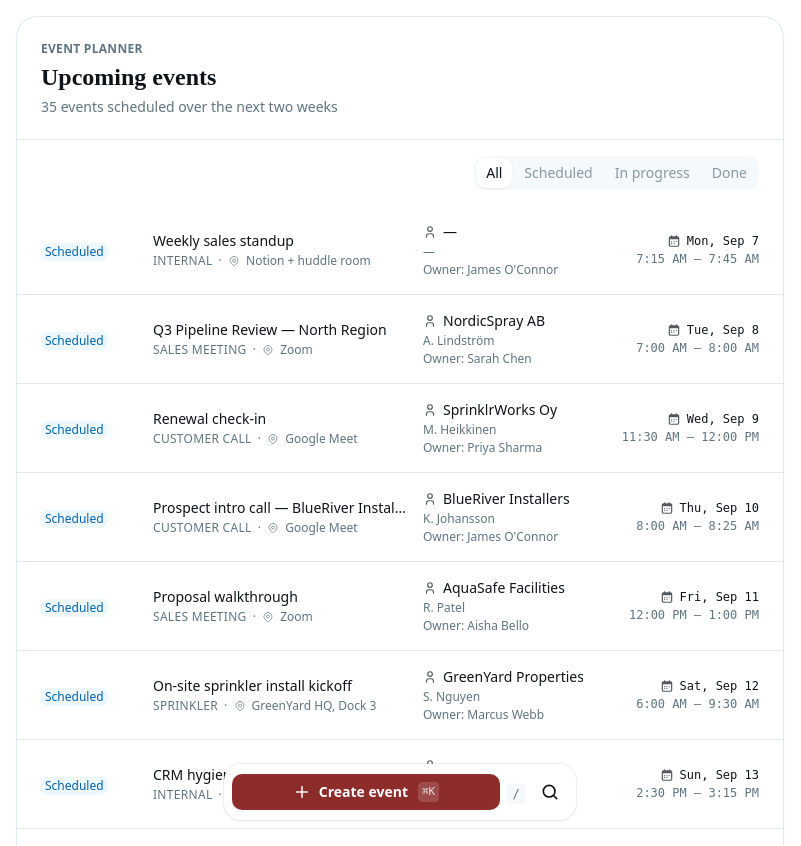
EventPlanner › filters the event list as the floating nav search box is used
Click the button named "Search events". click: (550, 792)
box: [532,774,568,810]
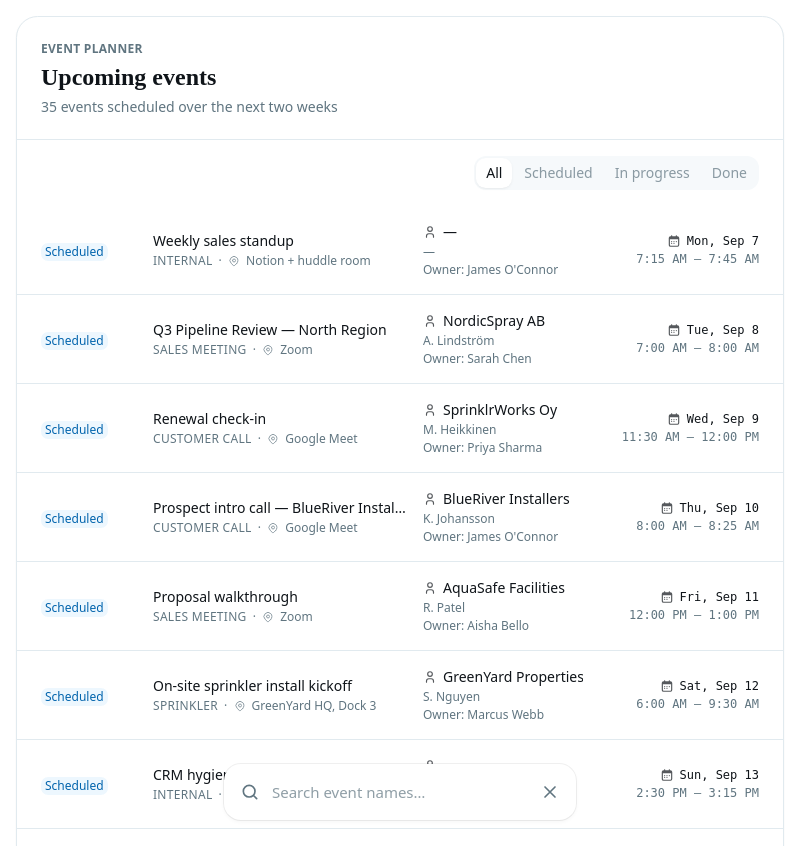
Type "renewal check-in" into the search field labelled "Search event names". click: (400, 792)
box: [224,764,576,820]
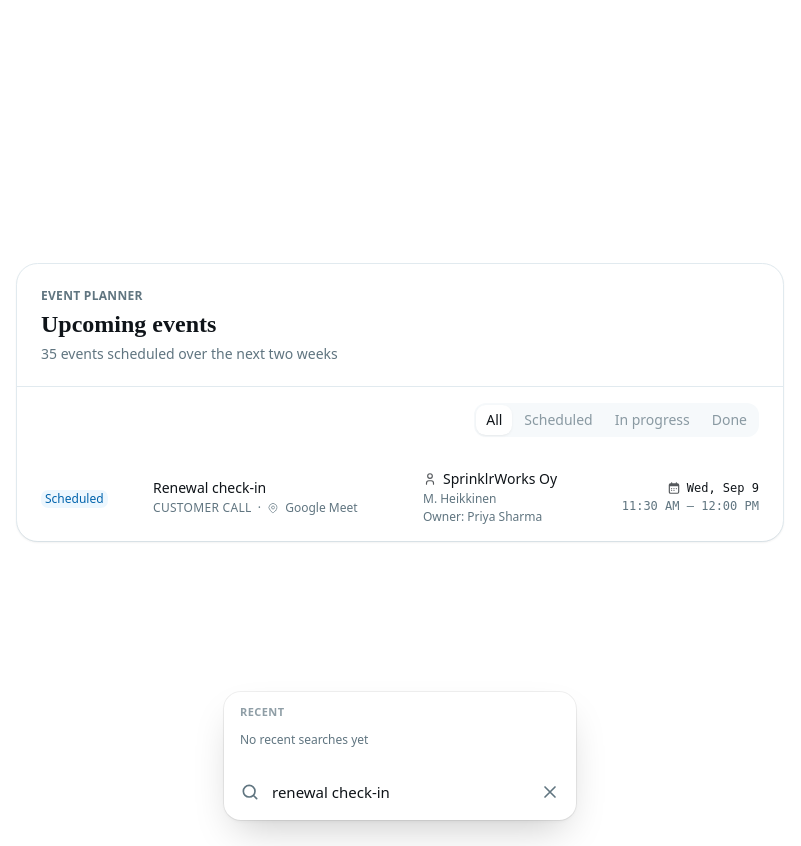
Expected: the text "Renewal check-in" is shown, [153,478,266,496]
Expected: the button "Weekly sales standup" is gone
